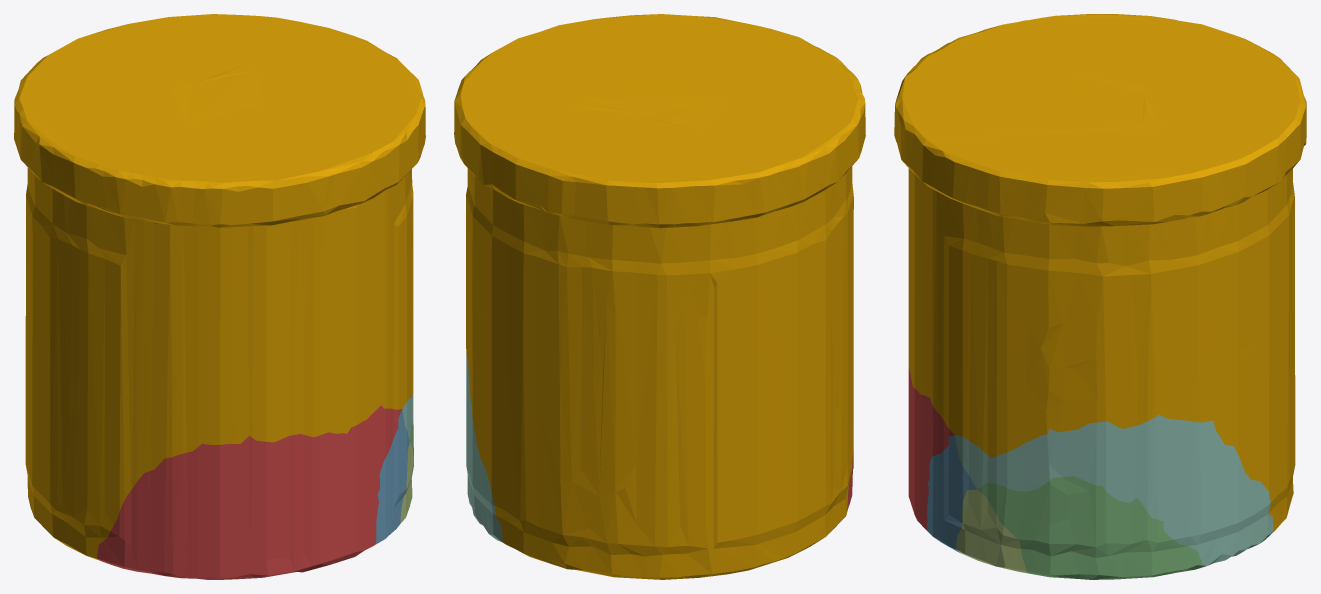
File: fractured_78_6pcs.glb
3 views of the same model, side by side, from view 1: azimuth 30°, elevation 25°; view 2: azimuth 150°, elevation 25°; view 3: azimuth 270°, elevation 25° (orthographic).
Parts seen in each view (by area): view 1: piece_0.obj, piece_1.obj, piece_2.obj, piece_5.obj; view 2: piece_0.obj, piece_4.obj; view 3: piece_0.obj, piece_4.obj, piece_3.obj, piece_1.obj, piece_5.obj, piece_2.obj.
Boxes of the visible parts, <box> form: piece_0.obj: <box>14,14,425,560</box>; piece_1.obj: <box>97,405,401,579</box>; piece_2.obj: <box>375,409,409,544</box>; piece_5.obj: <box>400,441,413,522</box>; piece_0.obj: <box>454,14,865,579</box>; piece_4.obj: <box>466,354,502,542</box>; piece_0.obj: <box>894,14,1306,531</box>; piece_4.obj: <box>955,415,1273,566</box>; piece_3.obj: <box>977,476,1203,579</box>; piece_1.obj: <box>908,368,954,529</box>; piece_5.obj: <box>956,489,1027,573</box>; piece_2.obj: <box>926,435,976,552</box>.
Bounding box in the file's own units: 0.9259 × 1 × 0.9247.
